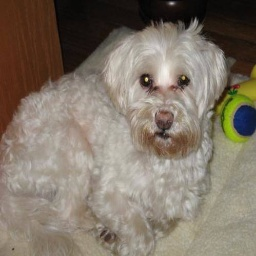dog: (8, 16, 226, 252)
